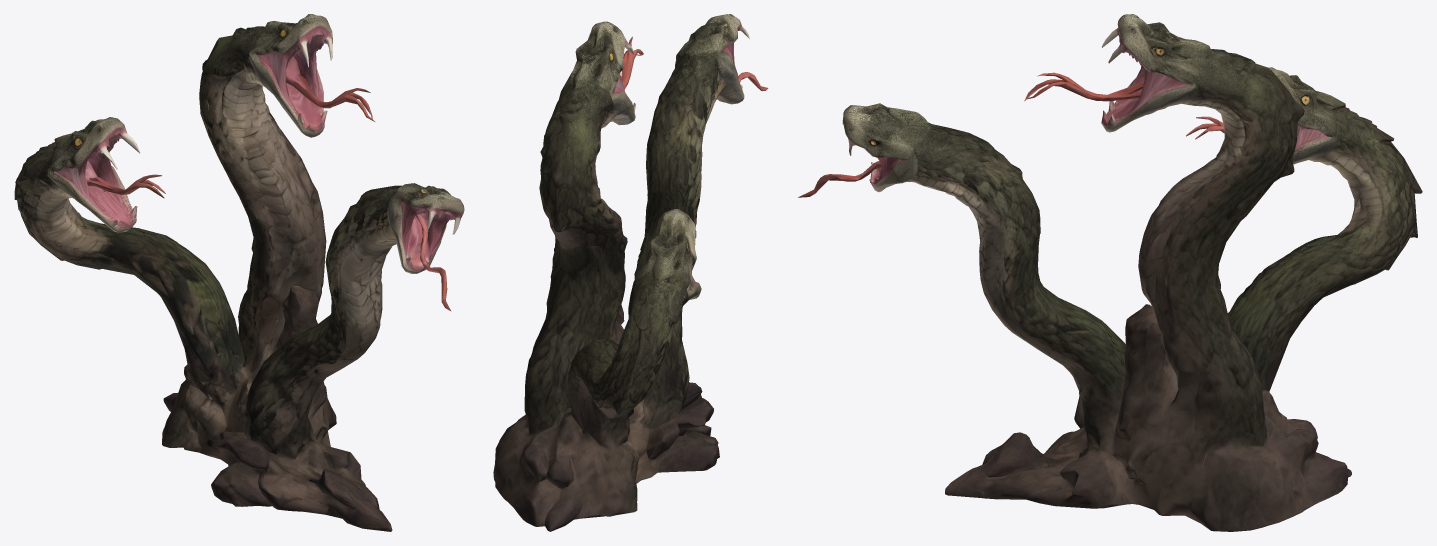
File: proj_snakes.glb
3 renders of one model, left to right at view 1: azimuth 30°, elevation 25°; view 2: azimuth 150°, elevation 25°; view 3: azimuth 270°, elevation 25°, orthographic. The views are drawn at different scales.
Parts seen in each view (by area): view 1: Mesh_0; view 2: Mesh_0; view 3: Mesh_0.
Boxes of the visible parts, x1=… form: Mesh_0: x1=14, y1=14, x2=464, y2=531; Mesh_0: x1=493, y1=14, x2=768, y2=531; Mesh_0: x1=798, y1=14, x2=1422, y2=531.
Size of the model in its own units: 0.9207 by 1.62 by 1.9.
1 material, 1 textured.
